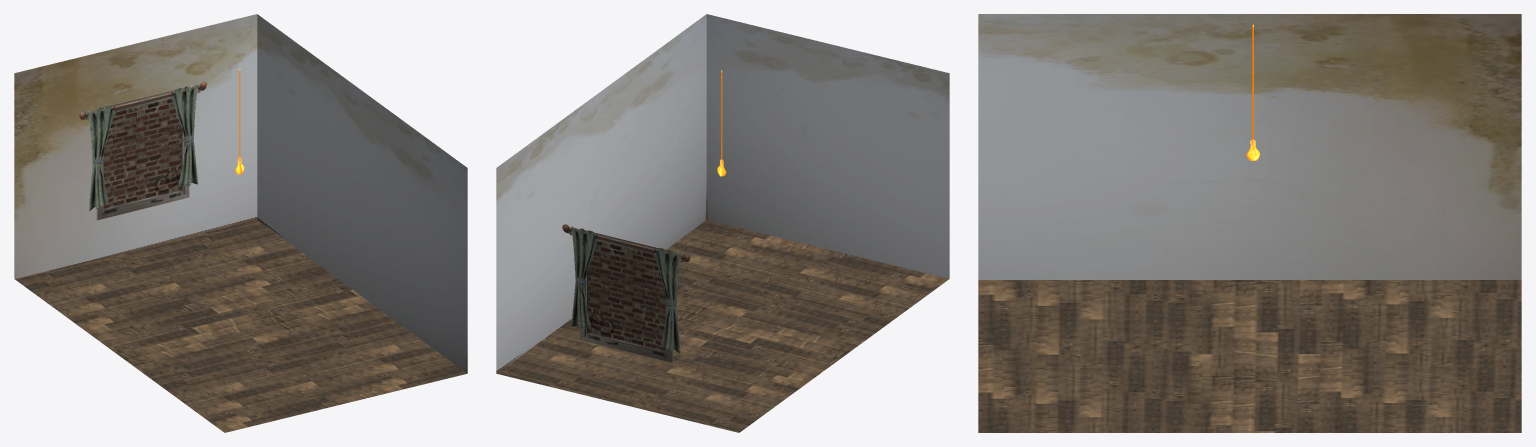
Rendered from soba.glb.
3 renders of one model, left to right at view 1: azimuth 30°, elevation 25°; view 2: azimuth 150°, elevation 25°; view 3: azimuth 270°, elevation 25°, orthographic. The views are drawn at different scales.
Visible parts, largest first — view 1: Cube; view 2: Cube; view 3: Cube.
Part boxes in pixels (box(x1,y1,x2,y2)): Cube: box(14, 14, 467, 432); Cube: box(496, 14, 949, 432); Cube: box(978, 14, 1521, 432).
Bounding box in the file's own units: 2 × 2.02 × 3.
3 materials, 3 textured.
